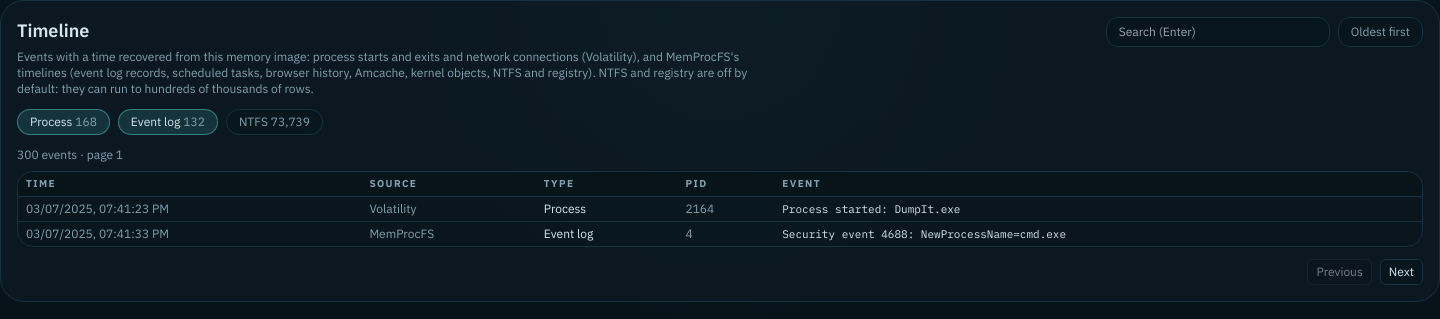
Test case: MemoryTimelineTab › pages forward with the cursor and back to the previous page
Click the button with test id "memory-timeline-next" at {"x": 1401, "y": 272}, box [1380,259,1423,285]
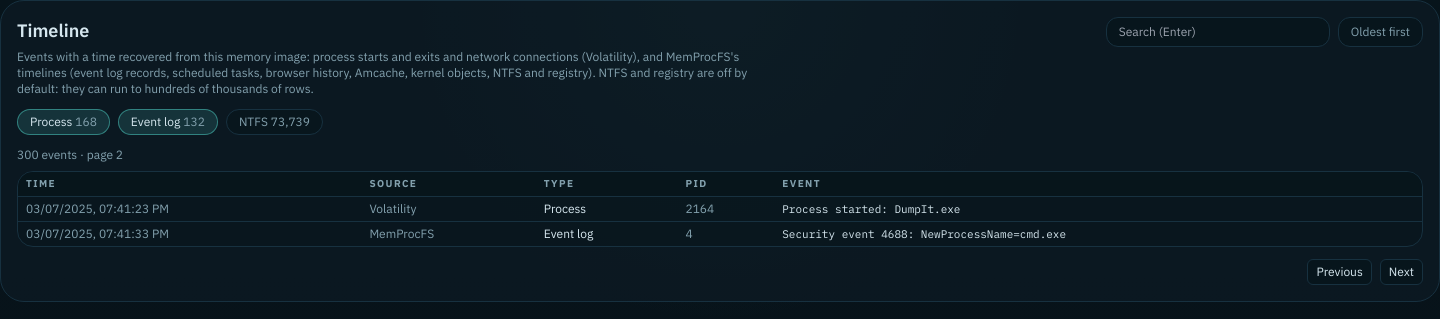
Click the button with test id "memory-timeline-prev" at {"x": 1340, "y": 272}, box [1308,259,1372,285]
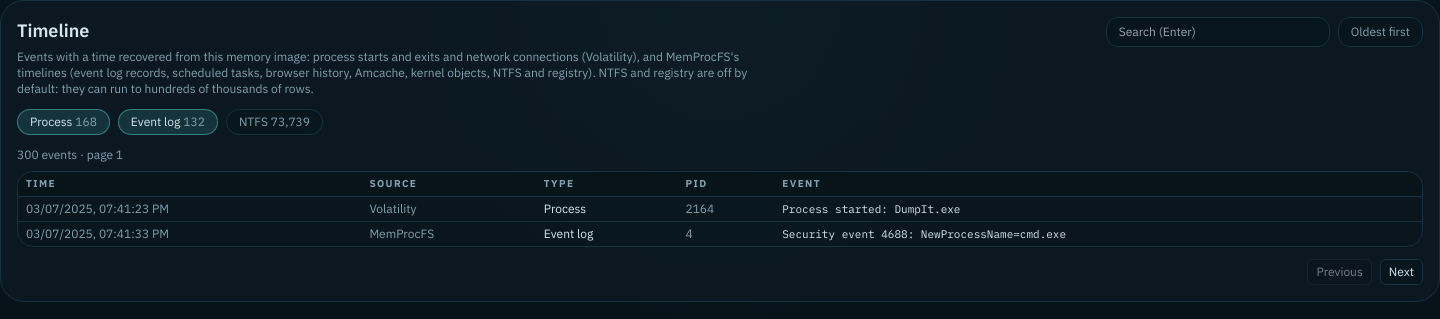
Expected: the text with test id "memory-timeline-summary" shows "page 1", [17,147,123,162]
